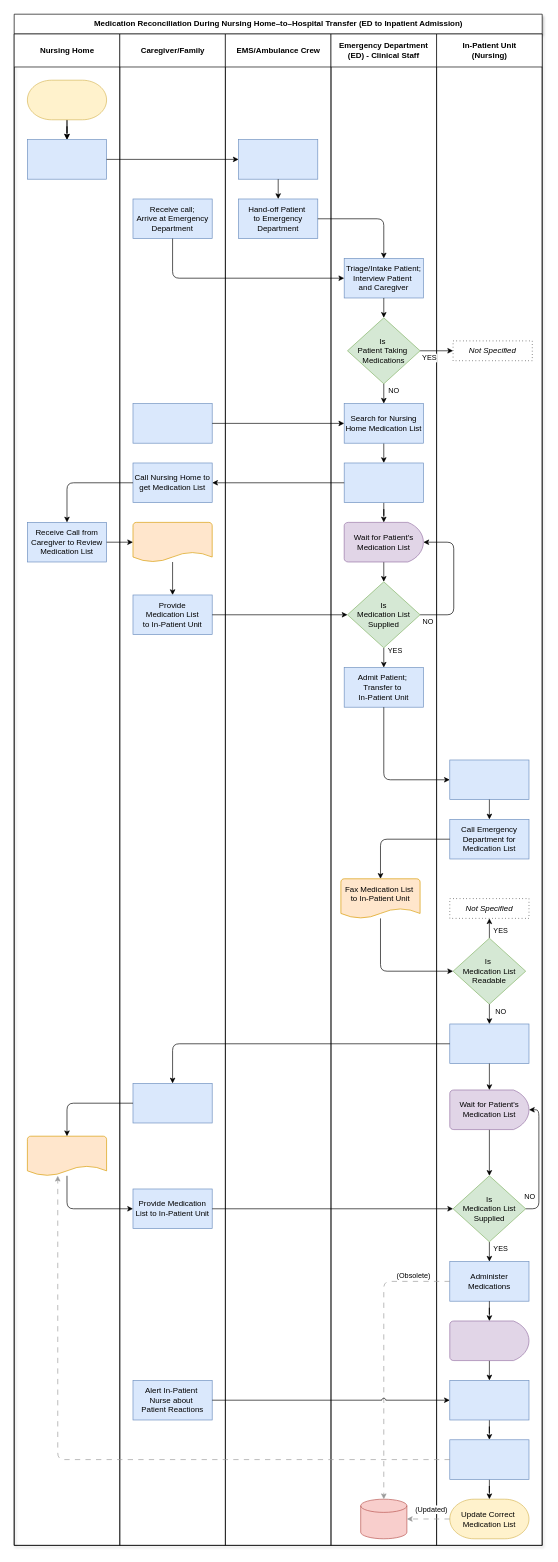
The diagram is 558 pixels wide and 1562 high, and some of its shapes have lost their labels. The centre of each missing label's shape, as x and y in pixels:
"Administer Correct Medications" goes at (489,1459).
"Get Medication List from Nursing Home" goes at (172,1103).
"Get Medication List from Patient's Caregiver" goes at (489,779).
"Hospital System" goes at (383,1519).
"Note reactions/ Review Medications" goes at (489,1400).
"Notify Caregiver that Medication List can't be found" goes at (383,482).
"Notify Caregiver to get Medication List from Nursing Home" goes at (489,1043).
"Overnight" goes at (489,1340).
"Prepare Medication List" goes at (67,100).
"Print Multiple copies of Medication List" goes at (67,1156).
"Request Staff to find Nursing Home Medication List" goes at (172,423).
"Send Medication List with Patient" goes at (67,159).
"Transport Patient with Medication List" goes at (278,159).
"Write down Medication List" goes at (172,542).
